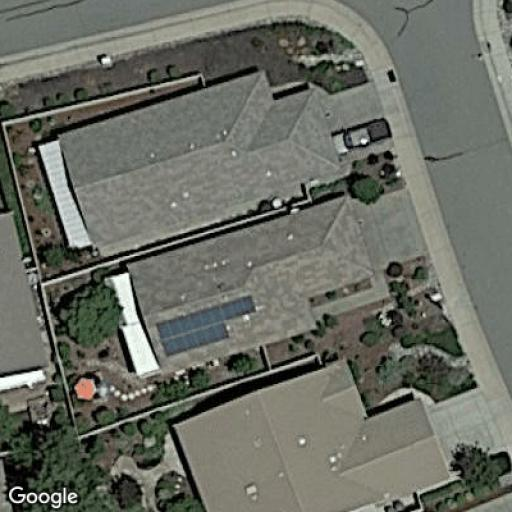solar-panel: (154, 294, 259, 359)
